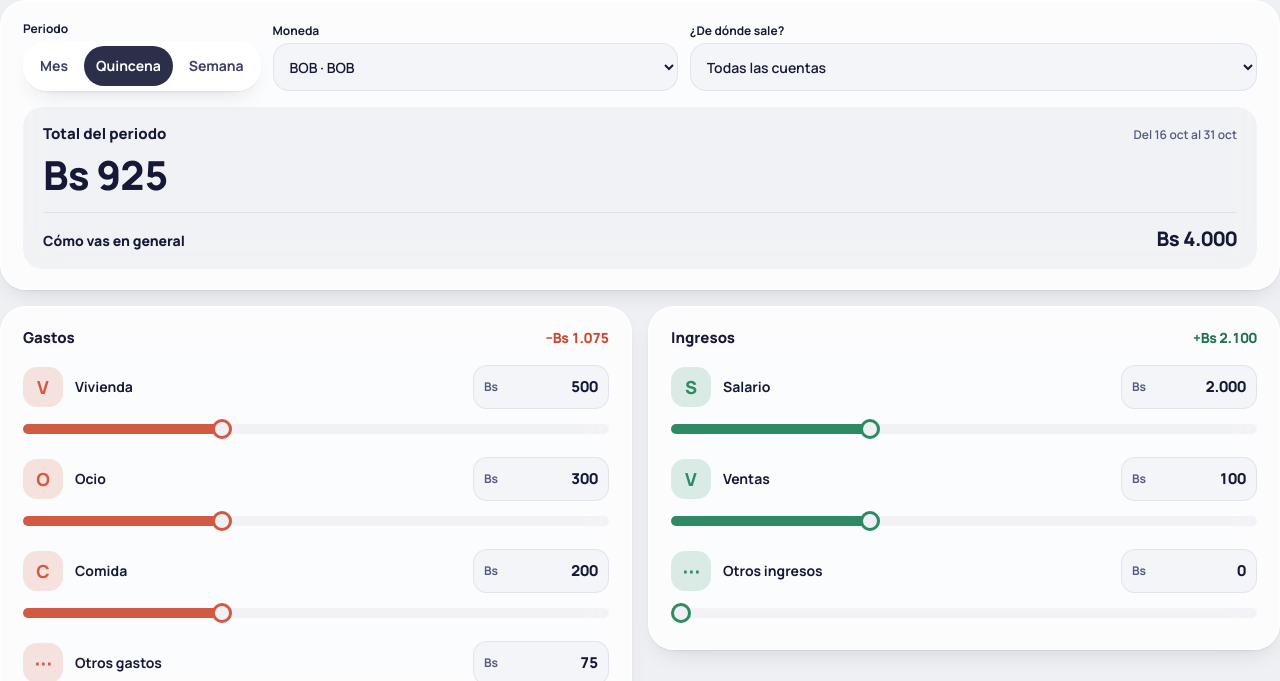
Scenario: What If? simulator › an amount can be typed, and the slider follows it
Step 1. Replace the text in the field named "Monto de Vivienda" with "1.250,50" → [550, 387], box [502, 376, 598, 398]
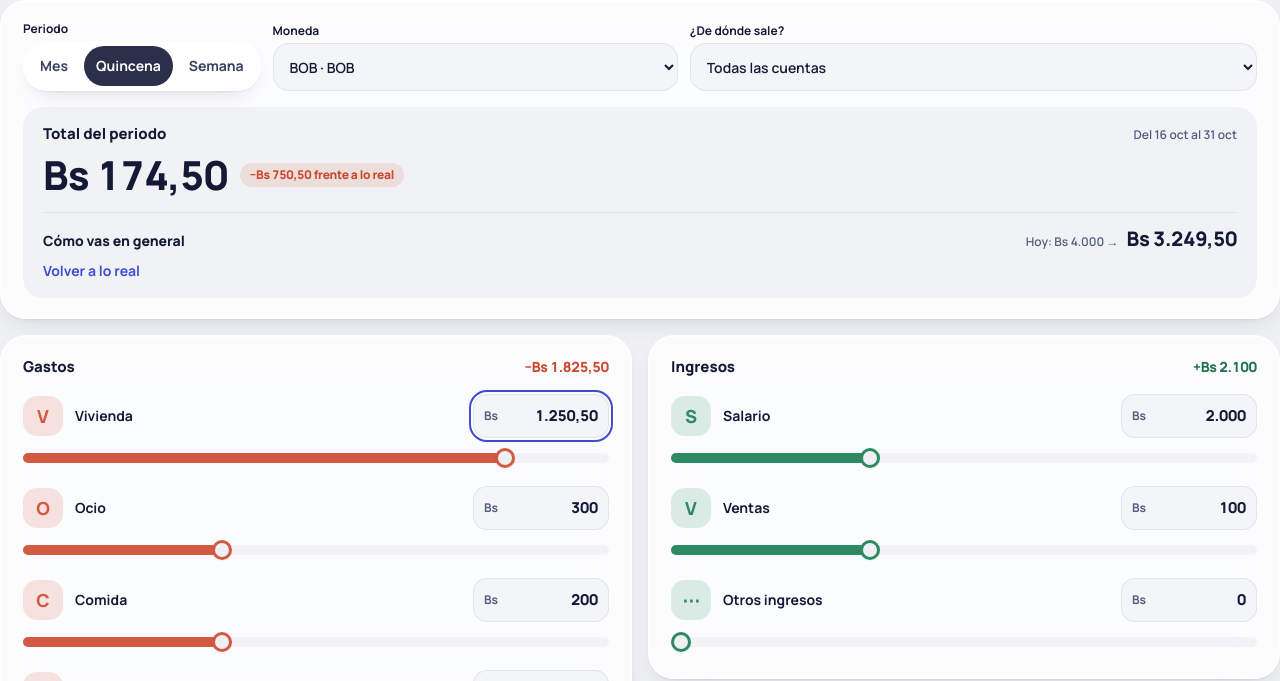
Check: the text with test id "whatif-total-amount" reads "Bs 174,50", box [43, 146, 228, 202]
Check: the slider labelled "Vivienda" holds "250", box [23, 442, 609, 474]
// Lo que no es un monto no cambia el total.
Step 2. Type "x" into the field named "Monto de Vivienda" → [550, 416], box [502, 405, 598, 427]
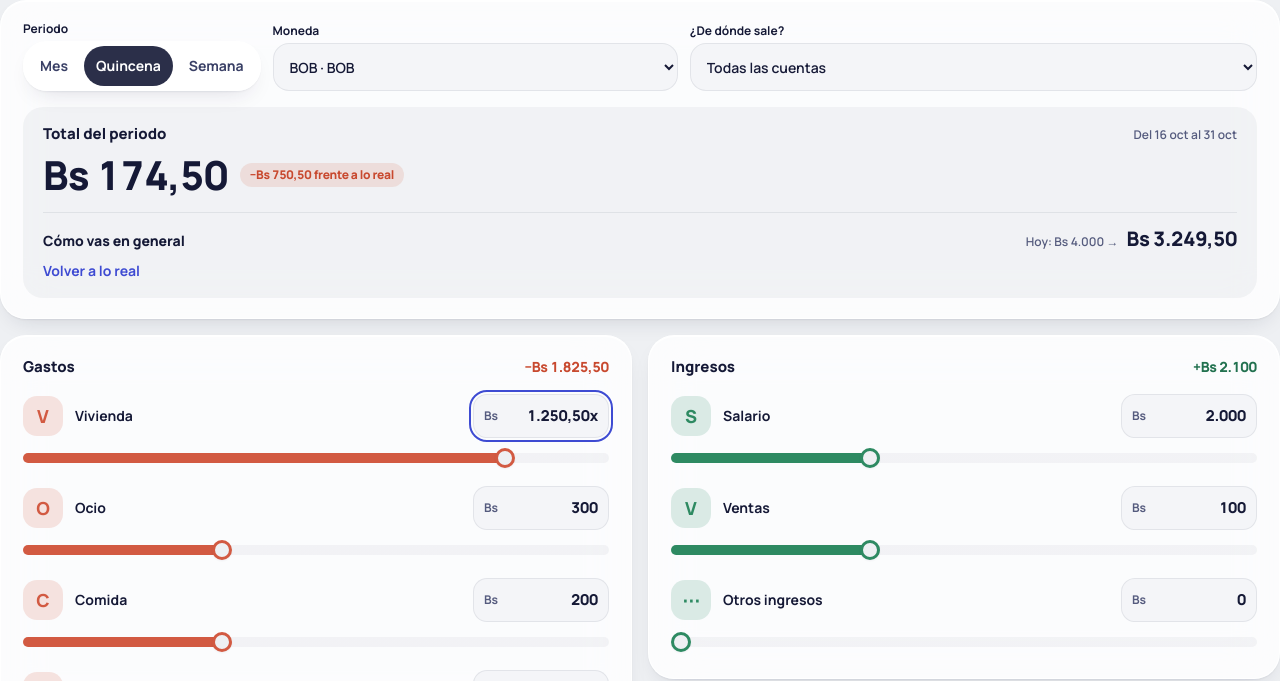
Check: the text with test id "whatif-total-amount" reads "Bs 174,50", box [43, 146, 228, 202]
Step 3. Press Tab
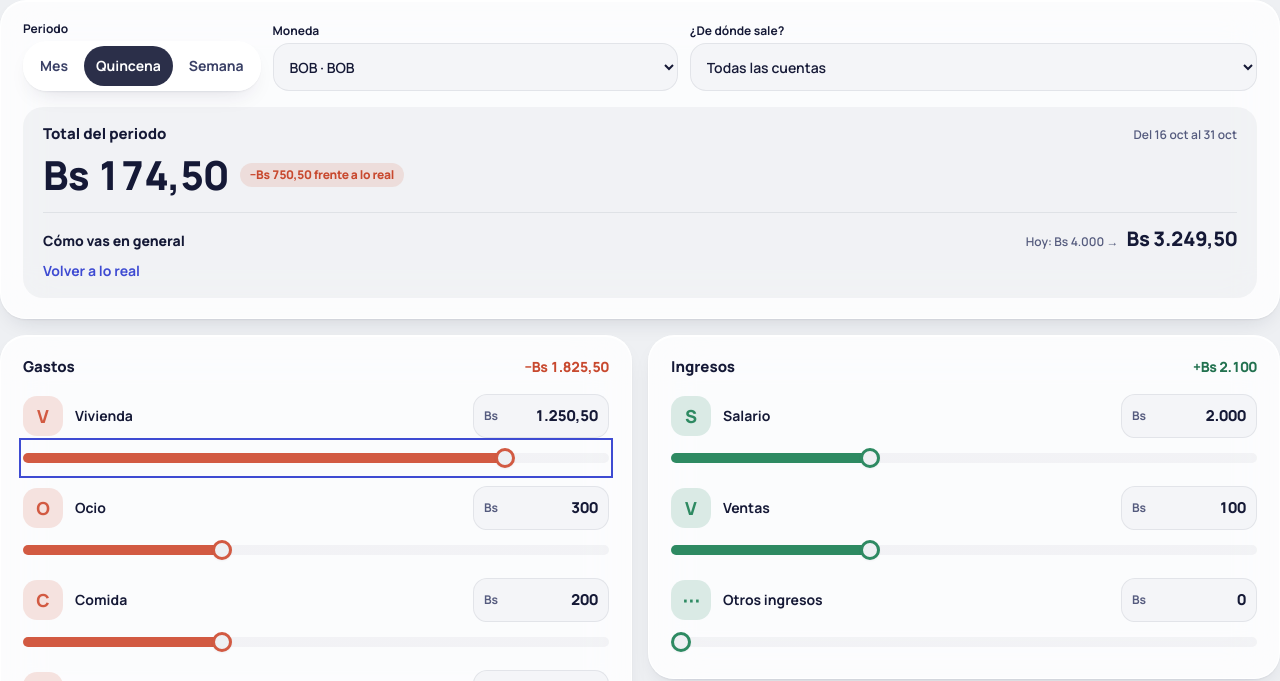
// Un monto fuera del rango deja el slider en el borde y cuenta tal cual.
Step 4. Replace the text in the field named "Monto de Salario" with "10000" → [1198, 416], box [1150, 405, 1246, 427]
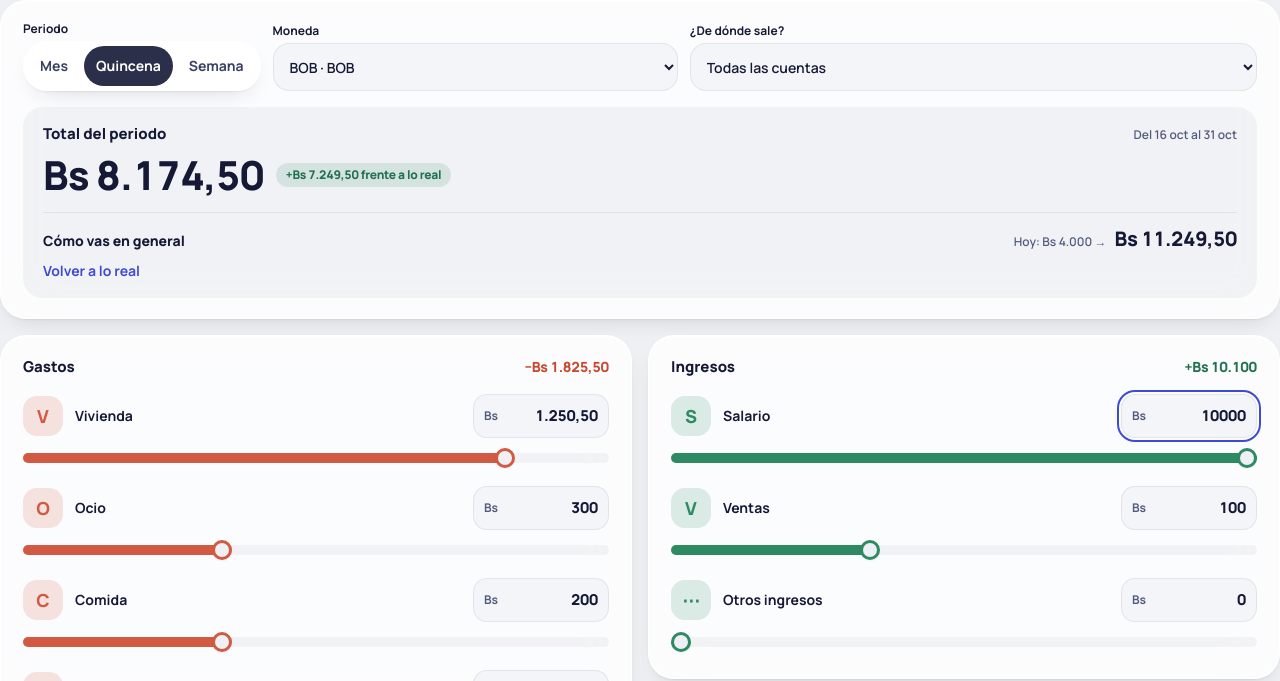
Check: the slider labelled "Salario" holds "300", box [671, 442, 1257, 474]
Check: the text with test id "whatif-total-amount" reads "Bs 8.174,50", box [43, 146, 264, 202]
